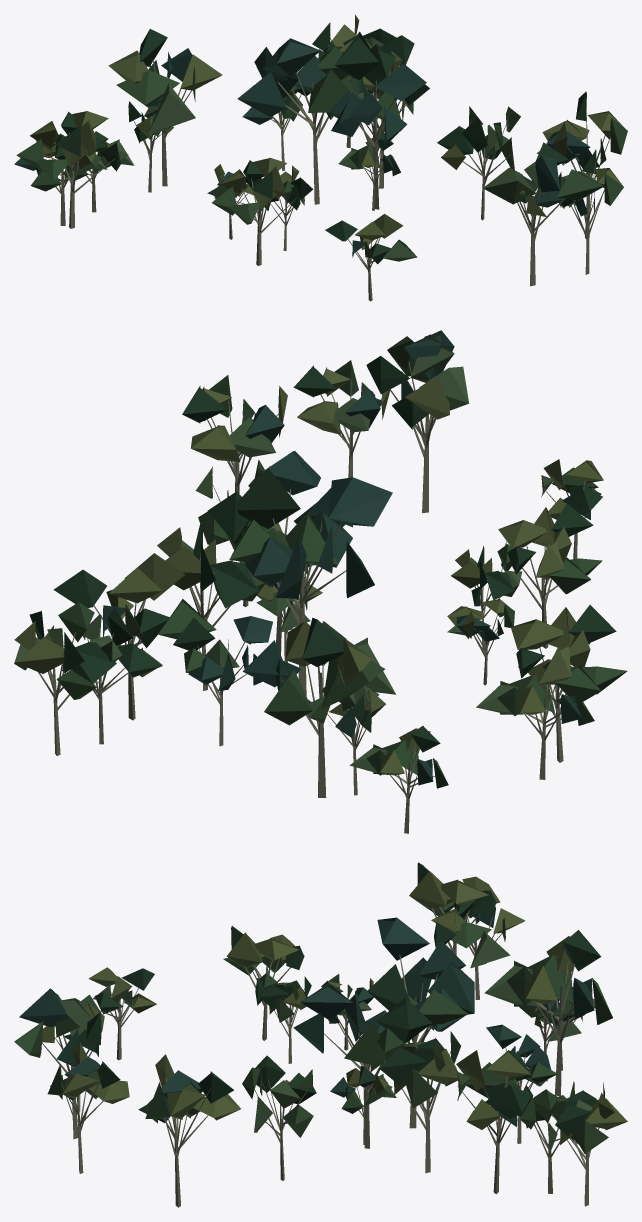
File: forest_25_20.dae
3 renders of one model, top to bottom at view 1: azimuth 30°, elevation 25°; view 2: azimuth 150°, elevation 25°; view 3: azimuth 270°, elevation 25°, orthographic. The views are drawn at different scales.
Parts seen in each view (by area): view 1: Node; view 2: Node; view 3: Node.
Part boxes in pixels (<box>): Node: <box>14,14,627,301</box>; Node: <box>14,330,627,833</box>; Node: <box>14,862,627,1207</box>.
Size of the model in its own units: 10.89 by 11.48 by 4.45.
